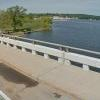Bridge: (4, 21, 95, 91)
